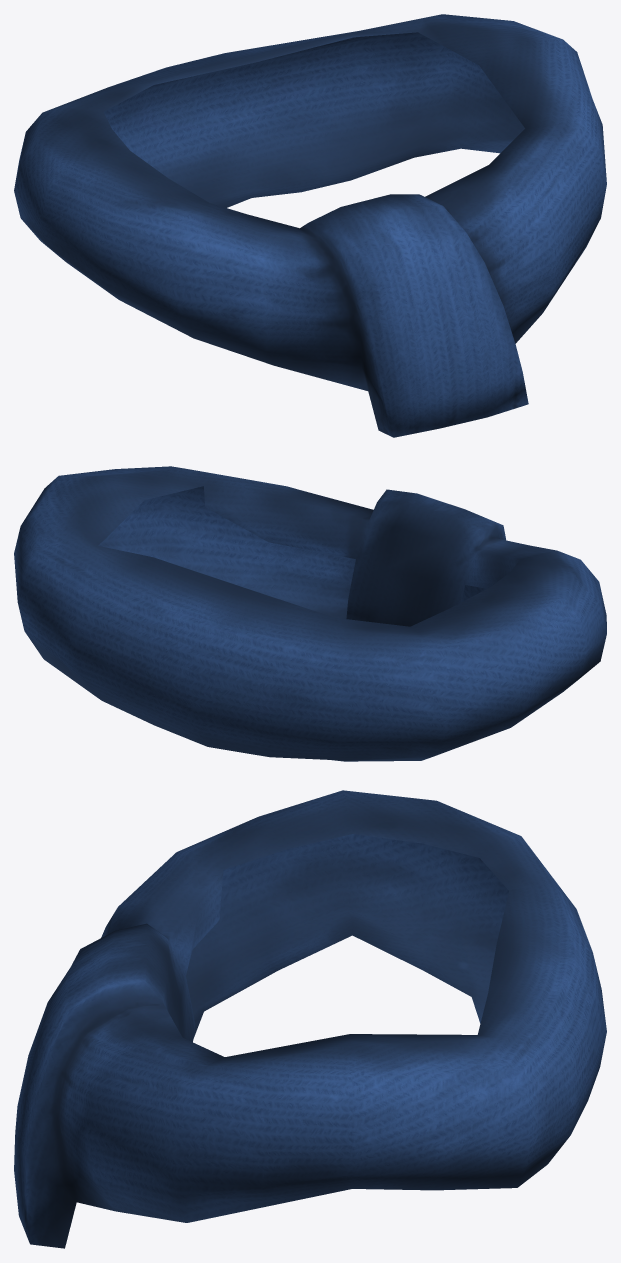
Rendered from Accessory1.glb.
3 views of the same model, one above another, from view 1: azimuth 30°, elevation 25°; view 2: azimuth 150°, elevation 25°; view 3: azimuth 270°, elevation 25° (orthographic). The views are drawn at different scales.
Visible parts, largest first — view 1: Halsduk; view 2: Halsduk; view 3: Halsduk.
Boxes of the visible parts, <box> form: Halsduk: <box>14,14,606,437</box>; Halsduk: <box>14,466,606,761</box>; Halsduk: <box>14,790,606,1248</box>.
Bounding box in the file's own units: 0.3444 × 0.1419 × 0.2732.
Materials: 1 (1 with a texture image).
